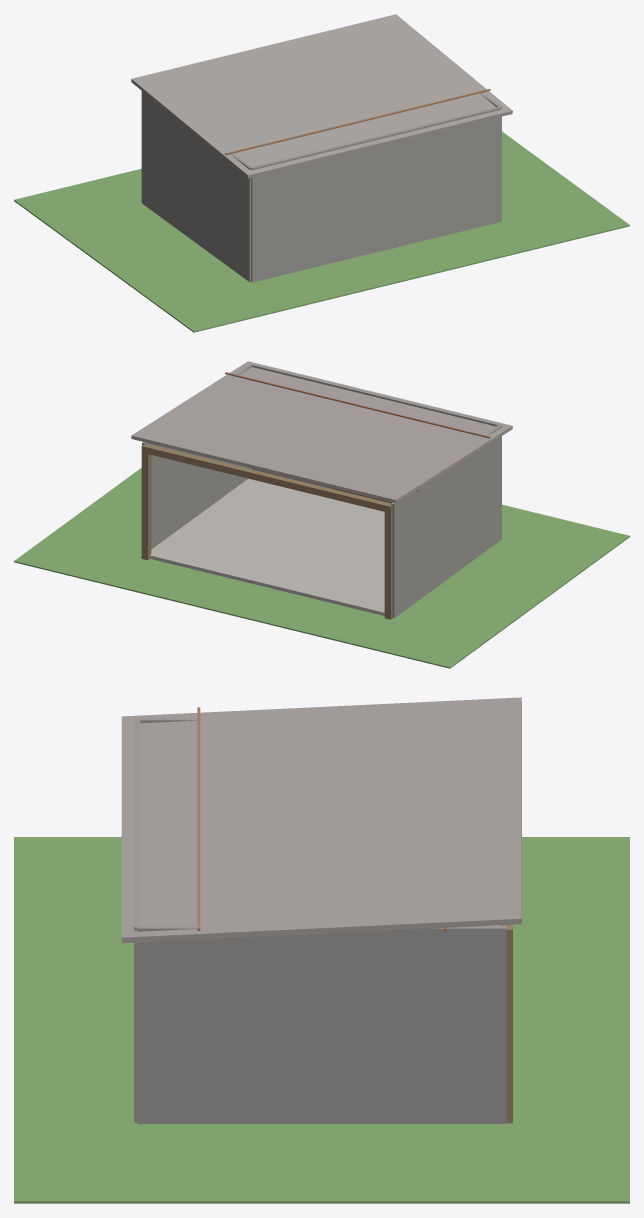
The model's file is tractor_shed.glb.
The picture shows the model from 3 angles, top to bottom: view 1: azimuth 30°, elevation 25°; view 2: azimuth 150°, elevation 25°; view 3: azimuth 270°, elevation 25°; orthographic projection. The views are drawn at different scales.
Parts seen in each view (by area): view 1: ground, roof, back_wall, left_wall, ridge_3; view 2: ground, roof, floor, left_wall, right_wall, lintel, post_fr, back_wall, post_fl, ridge_3; view 3: ground, roof, right_wall, back_wall, post_fr, ridge_3.
Part boxes in pixels (left/top/right/bottom): ground: left=14, top=131, right=629, bottom=332; roof: left=131, top=14, right=512, bottom=178; back_wall: left=250, top=106, right=501, bottom=282; left_wall: left=142, top=91, right=251, bottom=282; ridge_3: left=225, top=89, right=490, bottom=155; ground: left=14, top=468, right=629, bottom=668; roof: left=131, top=361, right=512, bottom=503; floor: left=149, top=478, right=384, bottom=615; left_wall: left=391, top=424, right=501, bottom=618; right_wall: left=142, top=364, right=251, bottom=549; lintel: left=142, top=444, right=391, bottom=512; post_fr: left=141, top=444, right=151, bottom=560; back_wall: left=251, top=363, right=501, bottom=489; post_fl: left=384, top=502, right=392, bottom=619; ridge_3: left=225, top=372, right=490, bottom=438; ground: left=14, top=837, right=629, bottom=1203; roof: left=121, top=697, right=521, bottom=943; right_wall: left=137, top=926, right=506, bottom=1123; back_wall: left=134, top=719, right=140, bottom=1122; post_fr: left=506, top=927, right=512, bottom=1123; ridge_3: left=197, top=707, right=200, bottom=930.
Size of the model in its own units: 14 by 3.82 by 10.
